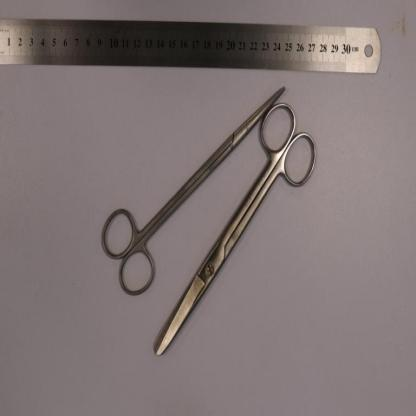7 Metzenbaum Scissors: (101, 85, 286, 299)
Dressing Scissors: (155, 100, 318, 357)
